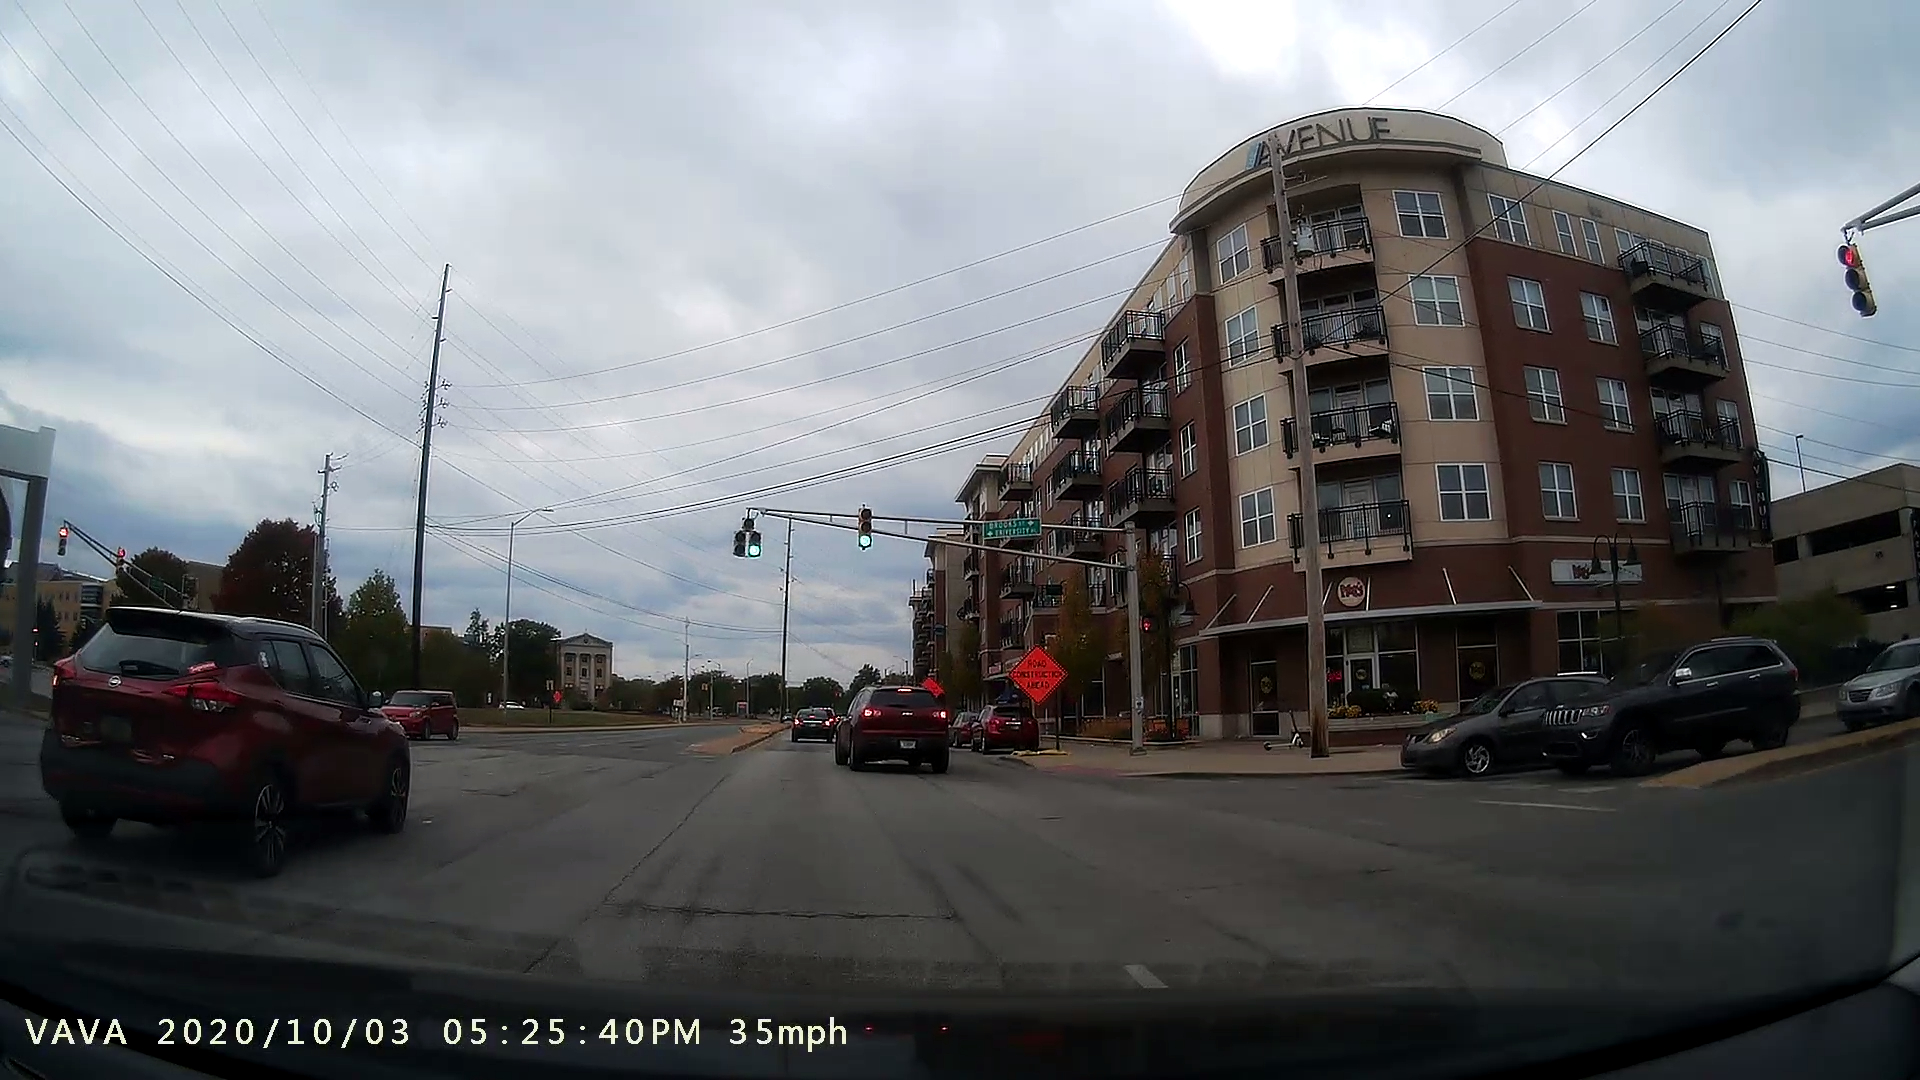ttcs_road_const_ahead: (1000, 636, 1087, 760)
